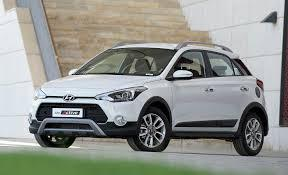hyundai: (58, 92, 78, 102)
